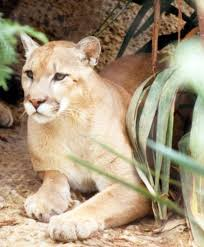Mountain Lion: (15, 26, 124, 136)
